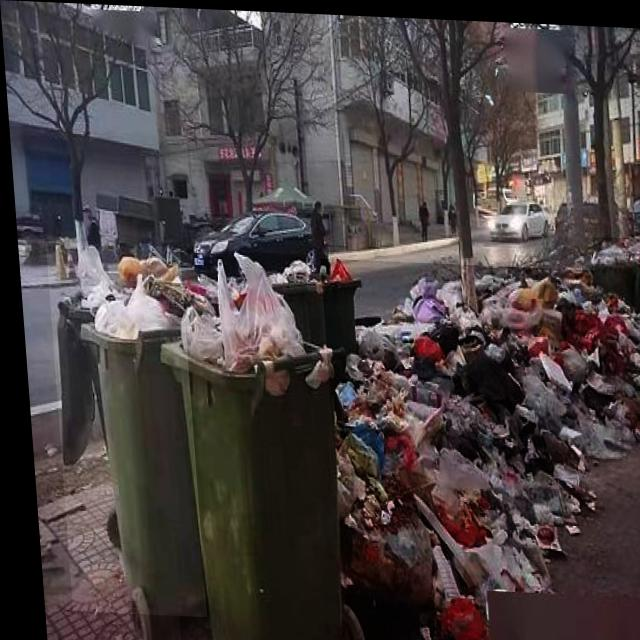garbage: (316, 256, 640, 640)
overflow: (148, 246, 355, 640), (42, 241, 198, 616), (301, 253, 361, 369), (589, 231, 640, 310)
